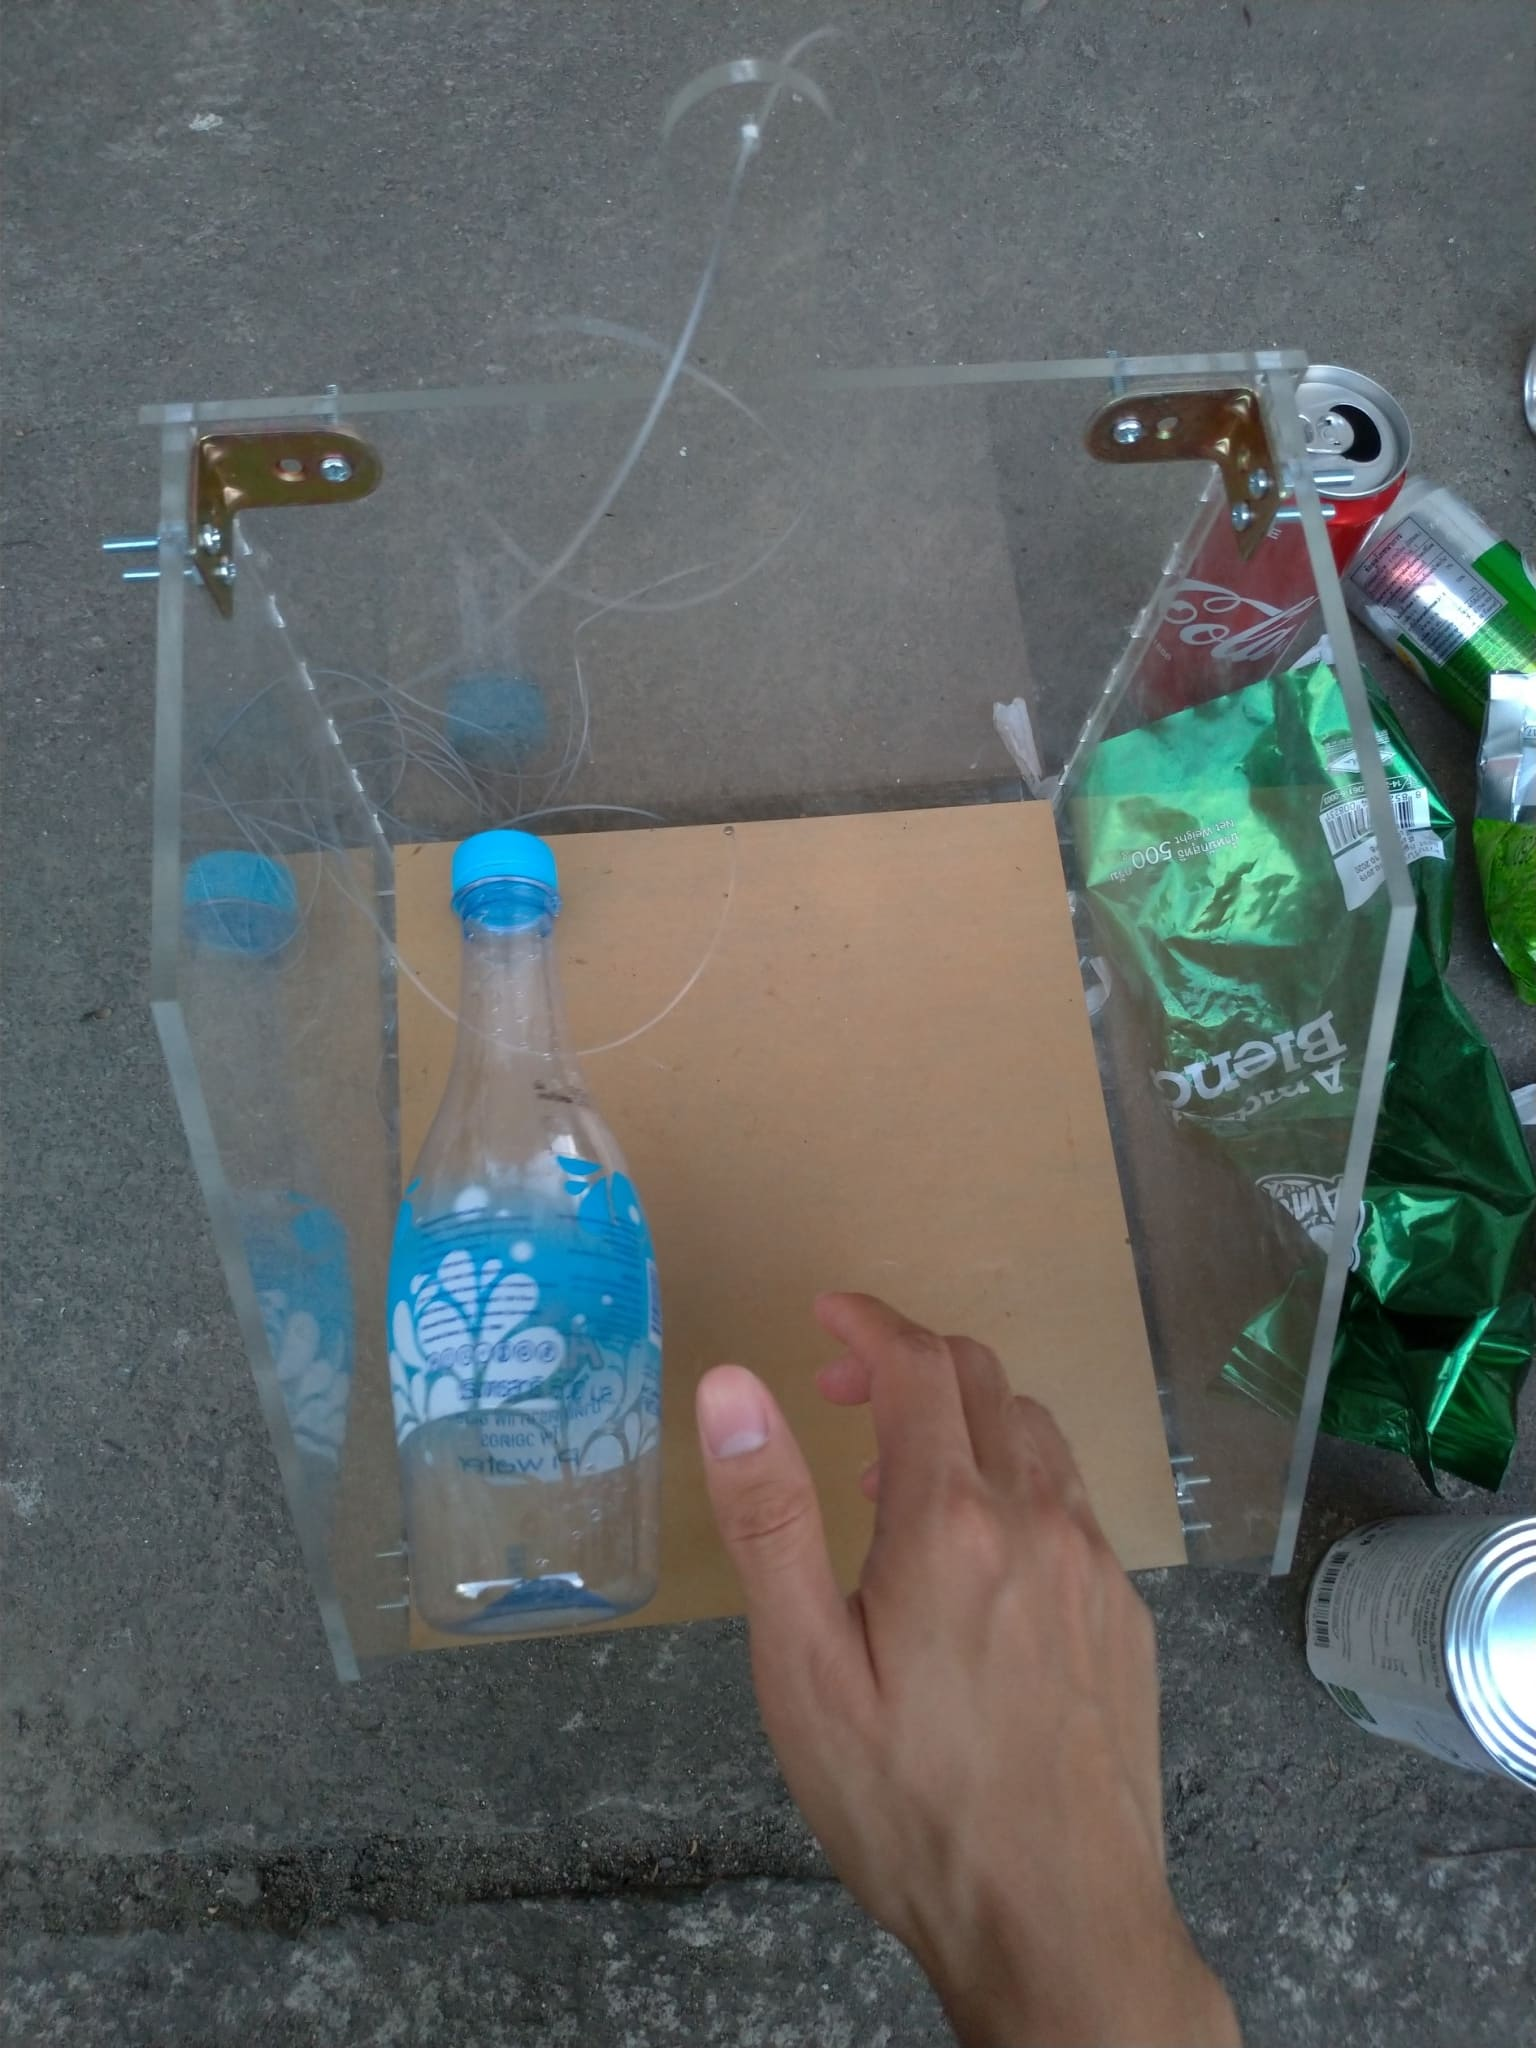AlCan: (1150, 368, 1400, 722), (1300, 1505, 1536, 1801), (1357, 484, 1536, 713)
Others: (1079, 669, 1518, 1498)
PlasticBottle: (387, 830, 663, 1634)
